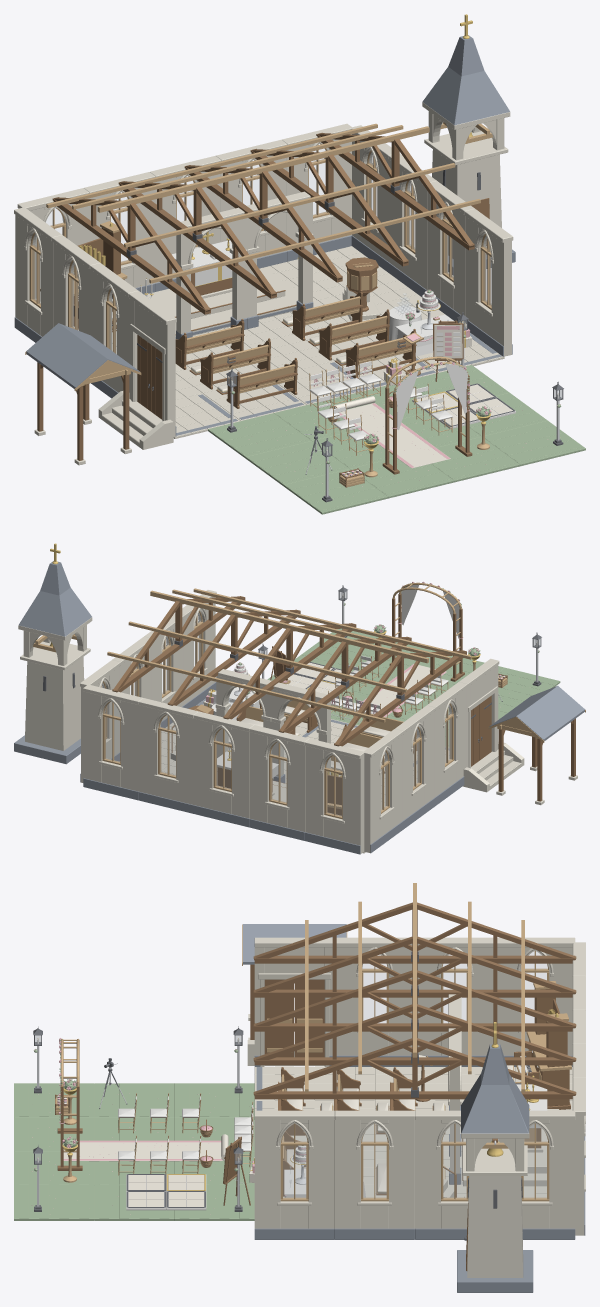
Rendered from wedding-and-chapel-kit-chapel-wedding-da-98d774ac-starter-scene__39413.glb.
The picture shows the model from 3 angles, top to bottom: view 1: azimuth 30°, elevation 25°; view 2: azimuth 150°, elevation 25°; view 3: azimuth 270°, elevation 25°; orthographic projection. The views are drawn at different scales.
Visible parts, largest first — view 1: 040-chapel-steeple/0, 032-chapel-wall-module/0, 040-chapel-steeple/1, 025-chapel-wall-module/0, 028-chapel-entrance-door-module/0, 042-chapel-porch-canopy/3, 035-chapel-roof-bay/0, 036-chapel-roof-bay/0, 039-chapel-roof-bay/0, 037-chapel-roof-bay/0, 038-chapel-roof-bay/0, 031-chapel-wall-module/0 (+68 smaller); view 2: 040-chapel-steeple/0, 020-chapel-wall-module/0, 022-chapel-wall-module/0, 024-chapel-wall-module/0, 021-chapel-wall-module/0, 023-chapel-wall-module/0, 040-chapel-steeple/1, 025-chapel-wall-module/0, 026-chapel-wall-module/0, 027-chapel-wall-module/0, 042-chapel-porch-canopy/3, 035-chapel-roof-bay/0 (+49 smaller); view 3: 040-chapel-steeple/0, 032-chapel-wall-module/0, 031-chapel-wall-module/0, 040-chapel-steeple/1, 039-chapel-roof-bay/0, 035-chapel-roof-bay/0, 036-chapel-roof-bay/0, 037-chapel-roof-bay/0, 038-chapel-roof-bay/0, 029-chapel-wall-module/0, 027-chapel-wall-module/0, 030-chapel-wall-module/0 (+57 smaller).
Part boxes in pixels (box(x1,y1,x2,y2)): 040-chapel-steeple/0: box(422, 102, 510, 258); 032-chapel-wall-module/0: box(464, 209, 513, 356); 040-chapel-steeple/1: box(422, 35, 515, 275); 025-chapel-wall-module/0: box(14, 207, 61, 336); 028-chapel-entrance-door-module/0: box(128, 291, 176, 437); 042-chapel-porch-canopy/3: box(26, 323, 139, 388); 035-chapel-roof-bay/0: box(52, 197, 210, 314); 036-chapel-roof-bay/0: box(118, 181, 276, 298); 039-chapel-roof-bay/0: box(316, 132, 474, 250); 037-chapel-roof-bay/0: box(184, 165, 342, 282); 038-chapel-roof-bay/0: box(250, 148, 408, 266); 031-chapel-wall-module/0: box(428, 181, 474, 316); 040-chapel-steeple/0: box(18, 617, 92, 750); 020-chapel-wall-module/0: box(304, 738, 364, 853); 022-chapel-wall-module/0: box(194, 711, 253, 818); 024-chapel-wall-module/0: box(83, 684, 142, 791); 021-chapel-wall-module/0: box(249, 725, 309, 831); 023-chapel-wall-module/0: box(138, 698, 198, 804); 040-chapel-steeple/1: box(14, 561, 91, 764); 025-chapel-wall-module/0: box(364, 729, 403, 852); 026-chapel-wall-module/0: box(395, 705, 435, 820); 027-chapel-wall-module/0: box(427, 682, 467, 797); 042-chapel-porch-canopy/3: box(489, 686, 585, 740); 035-chapel-roof-bay/0: box(334, 650, 466, 746); 040-chapel-steeple/0: box(461, 1133, 529, 1277); 032-chapel-wall-module/0: box(254, 1110, 334, 1228); 031-chapel-wall-module/0: box(334, 1110, 414, 1228); 040-chapel-steeple/1: box(457, 1044, 533, 1292); 039-chapel-roof-bay/0: box(253, 1038, 576, 1099); 035-chapel-roof-bay/0: box(253, 902, 576, 963); 036-chapel-roof-bay/0: box(253, 936, 576, 997); 037-chapel-roof-bay/0: box(253, 970, 576, 1031); 038-chapel-roof-bay/0: box(253, 1004, 576, 1065); 029-chapel-wall-module/0: box(498, 1110, 575, 1228); 027-chapel-wall-module/0: box(336, 937, 412, 1055); 030-chapel-wall-module/0: box(415, 1110, 492, 1228).
Size of the model in its own units: 16.45 by 7 by 14.26.
